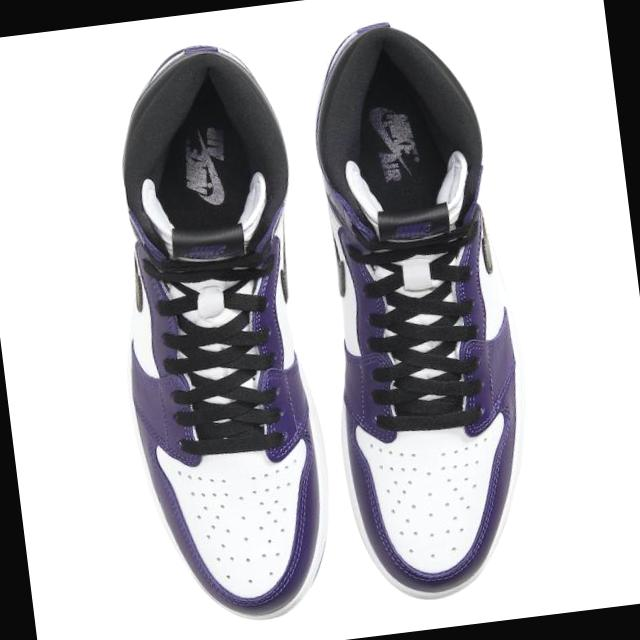nike_original_jordan: (88, 33, 358, 635), (290, 10, 548, 608)
